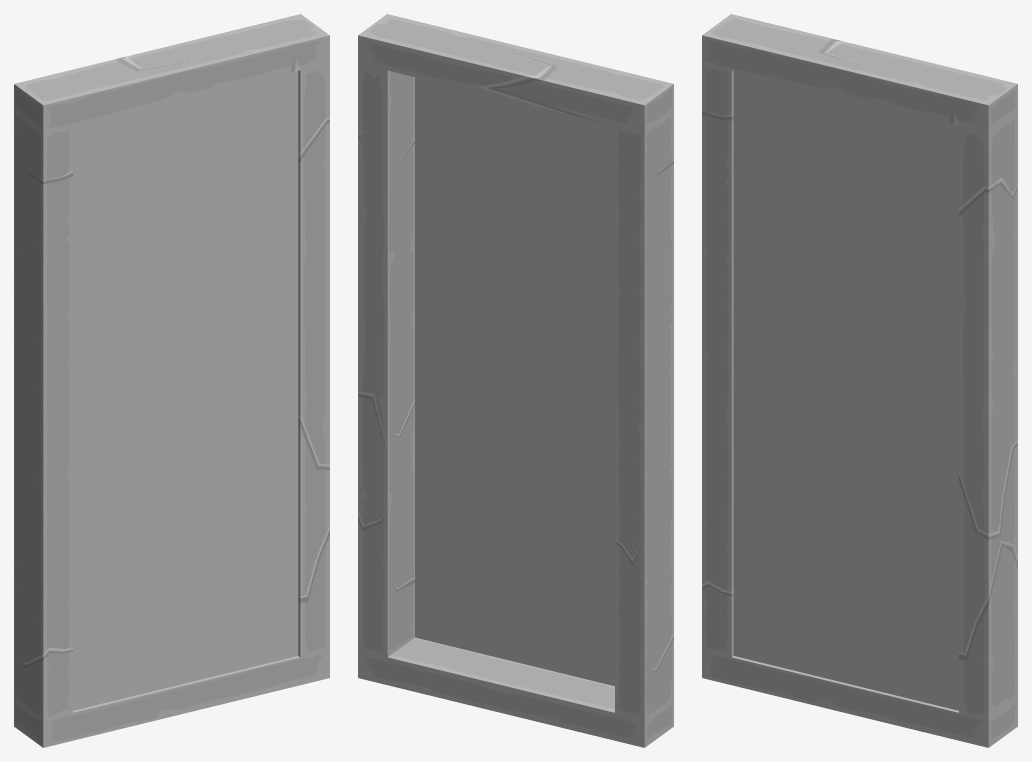
The model's file is Door1.fbx.
The picture shows the model from 3 angles, left to right: view 1: azimuth 30°, elevation 25°; view 2: azimuth 150°, elevation 25°; view 3: azimuth 330°, elevation 25°; orthographic projection.
Parts seen in each view (by area): view 1: Door1; view 2: Door1; view 3: Door1.
Boxes of the visible parts, x1,y1,x2,y2 form: Door1: [14, 14, 329, 747]; Door1: [358, 14, 673, 747]; Door1: [702, 14, 1017, 747].
Bounding box in the file's own units: 173 × 371 × 30.61.
